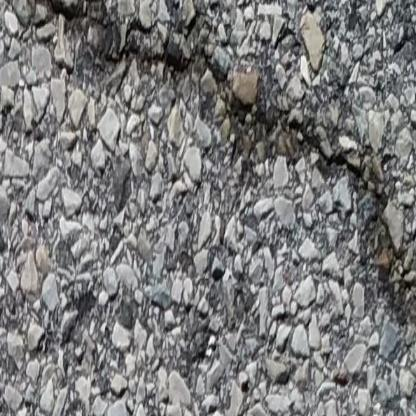Cracks: (42, 0, 416, 345)
